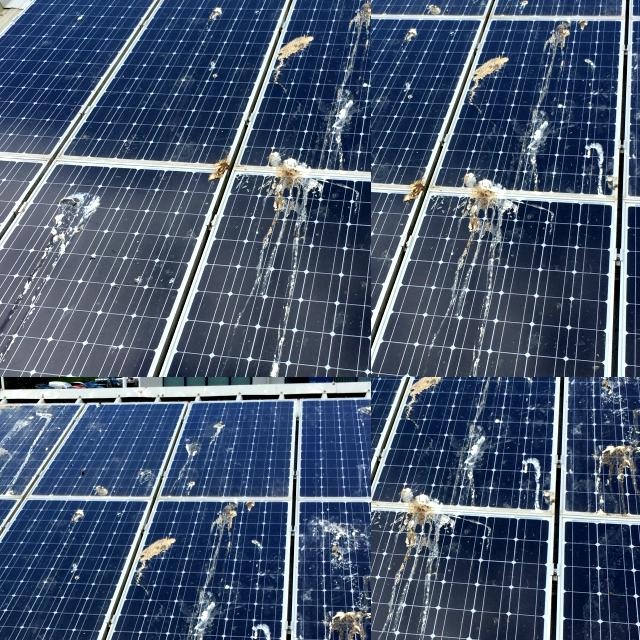bird: (390, 482, 465, 580), (578, 422, 640, 513), (20, 5, 97, 70), (490, 446, 549, 514), (371, 493, 407, 593), (583, 377, 640, 424), (371, 377, 412, 430), (450, 377, 509, 405), (371, 487, 396, 552), (392, 377, 440, 410), (0, 590, 28, 639), (182, 59, 220, 92), (484, 377, 515, 407), (34, 0, 105, 12), (179, 474, 205, 499), (163, 0, 186, 15), (0, 625, 12, 640)
crack: (371, 0, 640, 377)
